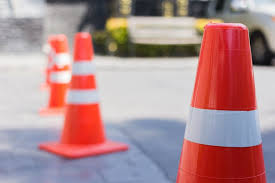cones: (174, 19, 275, 183), (42, 34, 130, 158)
